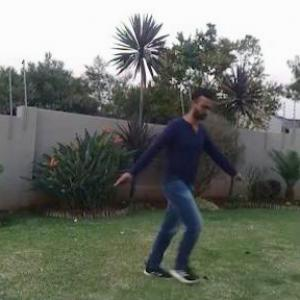land: (116, 81, 244, 284)
